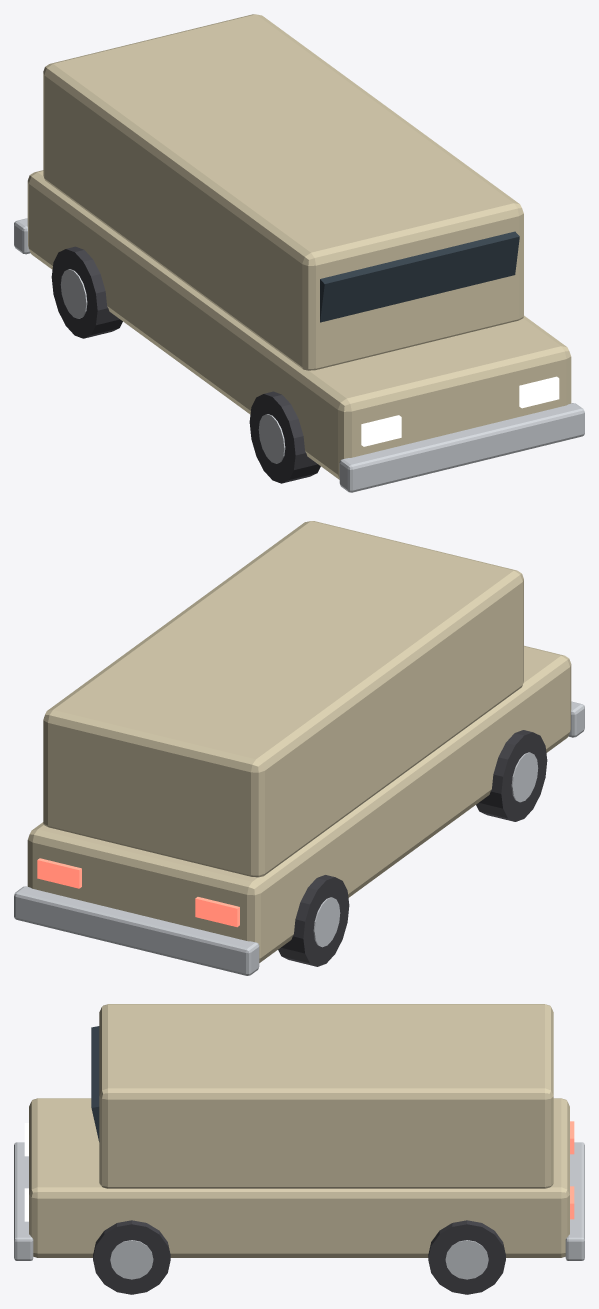
Rendered from car_van.glb.
3 views of the same model, one above another, from view 1: azimuth 30°, elevation 25°; view 2: azimuth 150°, elevation 25°; view 3: azimuth 270°, elevation 25° (orthographic). The views are drawn at different scales.
Visible parts, largest first — view 1: Cabin, Chassis, Windshield, BumperF, Wheel_-1_-1, Wheel_-1_1, Rim_-1_-1, Rim_-1_1, LightFL, LightFR; view 2: Cabin, Chassis, BumperR, Wheel_-1_-1, Wheel_-1_1, Rim_-1_-1, Rim_-1_1, LightRL, LightRR; view 3: Cabin, Chassis, Wheel_1_-1, Wheel_1_1, BumperR, BumperF, Rim_1_-1, Rim_1_1, Windshield.
Boxes of the visible parts, left/top/right/bottom form: Cabin: left=43, top=14, right=523, bottom=370; Chassis: left=27, top=170, right=571, bottom=479; Windshield: left=320, top=231, right=519, bottom=322; BumperF: left=339, top=403, right=584, bottom=492; Wheel_-1_-1: left=249, top=391, right=320, bottom=483; Wheel_-1_1: left=51, top=246, right=122, bottom=338; Rim_-1_-1: left=258, top=414, right=285, bottom=463; Rim_-1_1: left=60, top=269, right=87, bottom=318; LightFL: left=361, top=415, right=401, bottom=446; LightFR: left=519, top=376, right=559, bottom=408; Cabin: left=43, top=521, right=523, bottom=877; Chassis: left=27, top=645, right=571, bottom=962; BumperR: left=14, top=886, right=259, bottom=975; Wheel_-1_-1: left=476, top=730, right=547, bottom=821; Wheel_-1_1: left=278, top=875, right=349, bottom=966; Rim_-1_-1: left=511, top=752, right=538, bottom=802; Rim_-1_1: left=313, top=897, right=340, bottom=947; LightRL: left=195, top=897, right=239, bottom=927; LightRR: left=37, top=858, right=81, bottom=888; Cabin: left=99, top=1004, right=553, bottom=1188; Chassis: left=29, top=1098, right=569, bottom=1257; Wheel_1_-1: left=93, top=1220, right=170, bottom=1294; Wheel_1_1: left=428, top=1220, right=505, bottom=1294; BumperR: left=565, top=1142, right=584, bottom=1260; BumperF: left=14, top=1142, right=33, bottom=1260; Rim_1_-1: left=110, top=1240, right=153, bottom=1279; Rim_1_1: left=445, top=1240, right=488, bottom=1279; Windshield: left=91, top=1026, right=99, bottom=1141.
Size of what is drawn, in the model's own units: 2.3 by 2 by 5.28.
